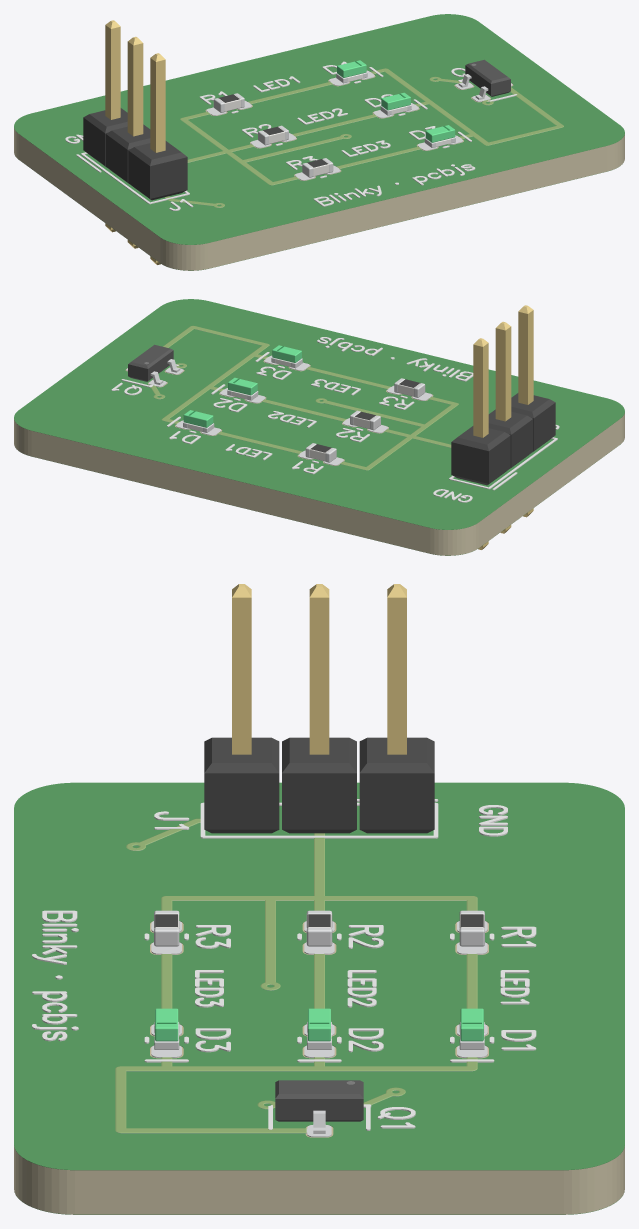
The model's file is blinky.glb.
3 views of the same model, one above another, from view 1: azimuth 30°, elevation 25°; view 2: azimuth 150°, elevation 25°; view 3: azimuth 270°, elevation 25° (orthographic). The views are drawn at different scales.
Visible parts, largest first — view 1: F.Mask (×2), board, part:J1 (×2), F.SilkS, F.Cu, part:Q1, part:D3, part:D1, part:D2; view 2: F.Mask (×2), board, part:J1 (×2), F.SilkS, F.Cu, part:Q1, part:D1, part:D2, part:D3; view 3: F.Mask (×2), part:J1 (×2), board, F.SilkS, part:Q1, F.Cu.
Boxes of the visible parts, x1=… form: F.Mask (×2): x1=14, y1=14, x2=624, y2=244; board: x1=14, y1=128, x2=624, y2=270; part:J1 (×2): x1=83, y1=20, x2=187, y2=264; F.SilkS: x1=65, y1=61, x2=517, y2=210; F.Cu: x1=170, y1=70, x2=558, y2=207; part:Q1: x1=465, y1=59, x2=510, y2=96; part:D3: x1=425, y1=125, x2=455, y2=142; part:D1: x1=337, y1=60, x2=366, y2=77; part:D2: x1=381, y1=92, x2=410, y2=110; F.Mask (×2): x1=14, y1=299, x2=624, y2=529; board: x1=14, y1=413, x2=624, y2=555; part:J1 (×2): x1=451, y1=305, x2=555, y2=549; F.SilkS: x1=111, y1=337, x2=559, y2=502; F.Cu: x1=126, y1=329, x2=449, y2=470; part:Q1: x1=128, y1=344, x2=173, y2=381; part:D1: x1=183, y1=410, x2=213, y2=427; part:D2: x1=228, y1=377, x2=257, y2=395; part:D3: x1=272, y1=345, x2=301, y2=362; F.Mask (×2): x1=14, y1=782, x2=624, y2=1170; part:J1 (×2): x1=204, y1=584, x2=434, y2=833; board: x1=14, y1=1146, x2=624, y2=1214; F.SilkS: x1=32, y1=799, x2=536, y2=1130; part:Q1: x1=275, y1=1080, x2=363, y2=1121; F.Cu: x1=117, y1=822, x2=487, y2=1137.
Size of the model in its own units: 0.03 by 0.0131 by 0.02.
